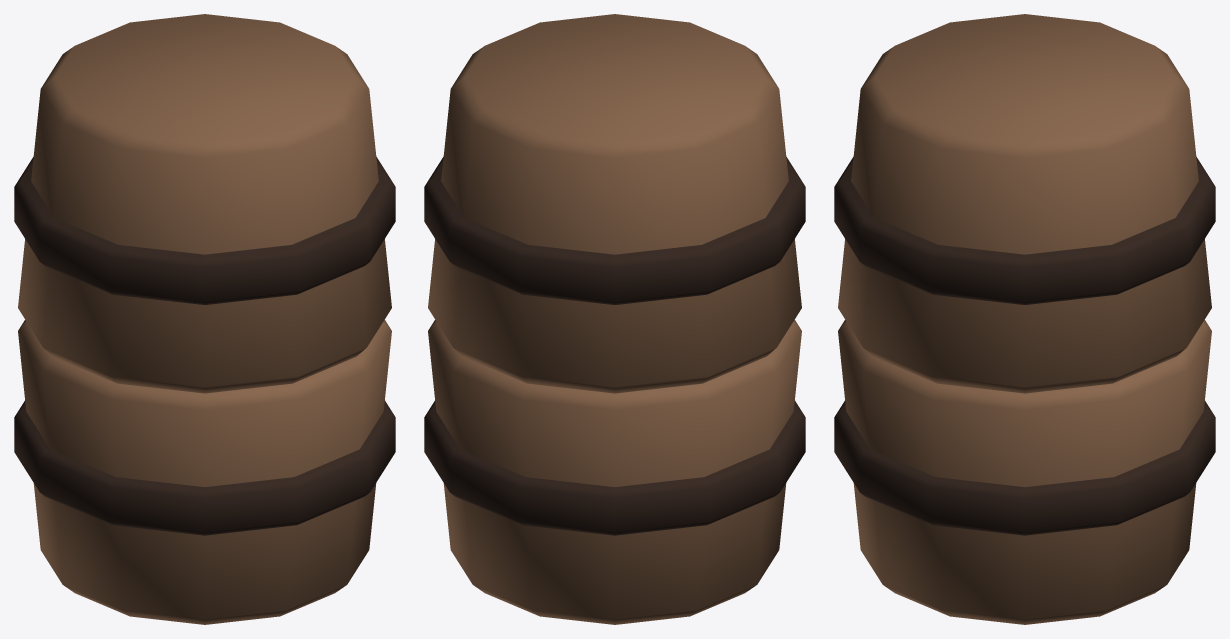
The model's file is barrel.glb.
3 views of the same model, side by side, from view 1: azimuth 30°, elevation 25°; view 2: azimuth 150°, elevation 25°; view 3: azimuth 270°, elevation 25° (orthographic).
Parts seen in each view (by area): view 1: barrel; view 2: barrel; view 3: barrel.
Part boxes in pixels (box(x1,y1,x2,y2)): barrel: box(14, 14, 395, 624); barrel: box(424, 14, 805, 624); barrel: box(834, 14, 1215, 624).
Size of the model in its own units: 0.3 by 0.42 by 0.3.
